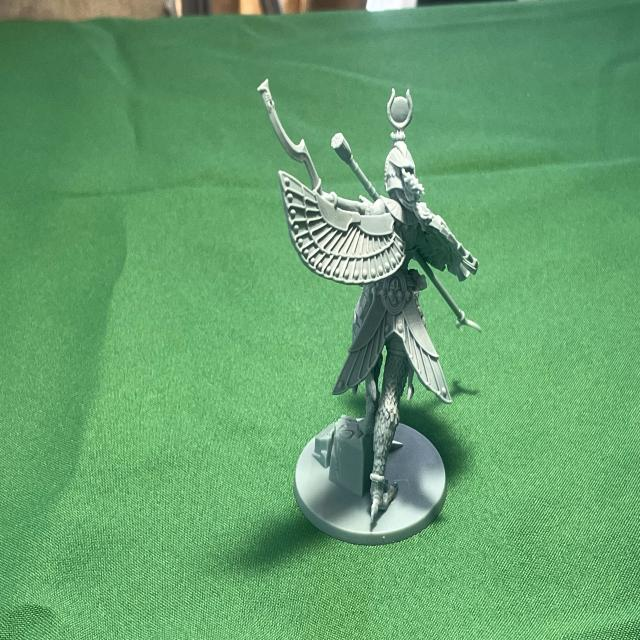isis: (233, 49, 502, 579)
